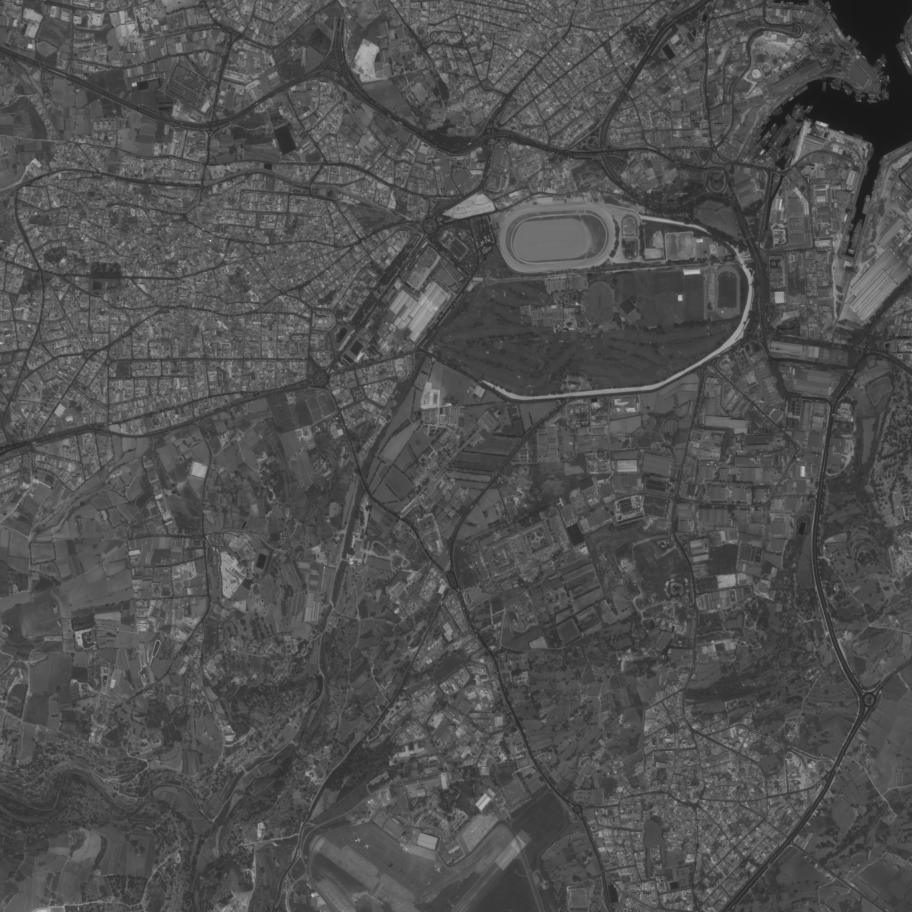plane: (430, 861, 446, 877), (401, 844, 411, 855), (361, 842, 372, 852), (386, 862, 396, 871), (354, 836, 363, 845), (399, 868, 406, 875)
ship: (847, 217, 865, 256), (766, 123, 786, 149), (787, 121, 804, 140), (784, 137, 796, 161), (861, 194, 873, 215), (841, 233, 852, 255), (791, 104, 806, 119), (790, 134, 800, 156), (794, 85, 810, 98), (794, 108, 807, 121), (783, 154, 794, 169), (852, 132, 866, 142), (842, 84, 854, 95), (850, 206, 858, 222), (829, 81, 843, 89), (872, 63, 882, 74), (831, 10, 840, 22), (846, 221, 854, 234), (829, 84, 842, 92), (877, 58, 887, 68), (806, 104, 815, 115), (791, 102, 800, 113), (851, 37, 860, 46), (880, 55, 889, 64), (855, 92, 867, 98), (866, 98, 878, 104), (882, 87, 887, 101), (886, 91, 891, 101), (855, 99, 864, 104), (886, 75, 891, 83), (855, 96, 863, 99)
storage-tank: (751, 67, 763, 80), (855, 55, 860, 60)
